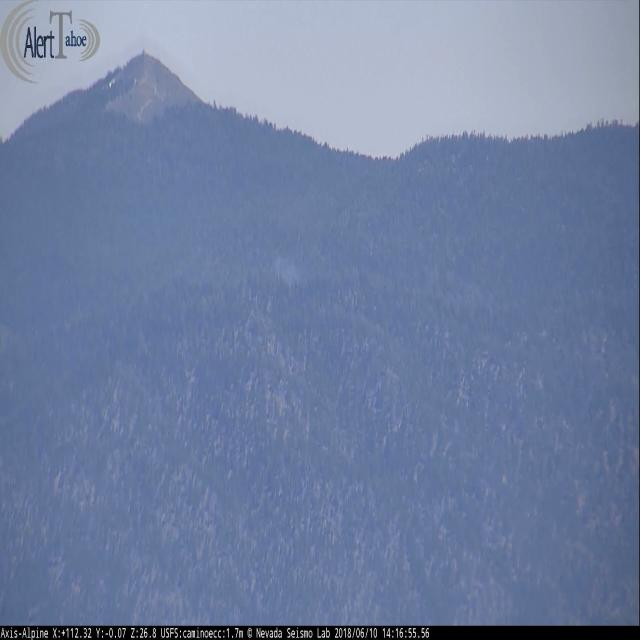smoke: (274, 251, 300, 293)
